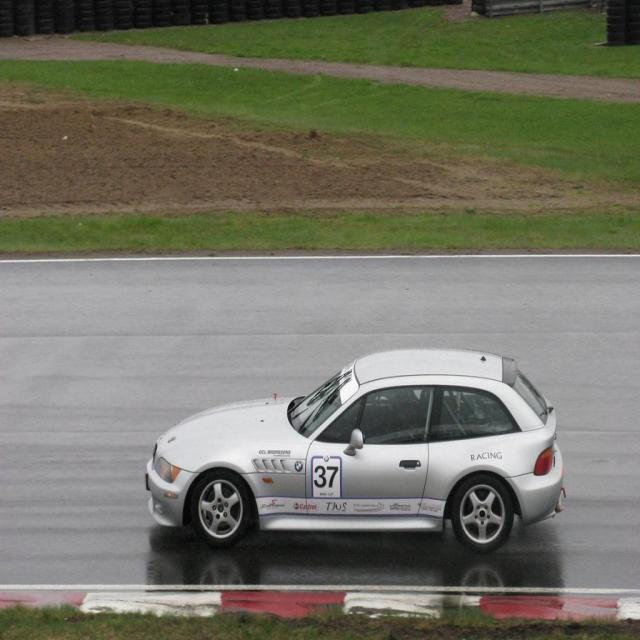car: (131, 358, 586, 565)
